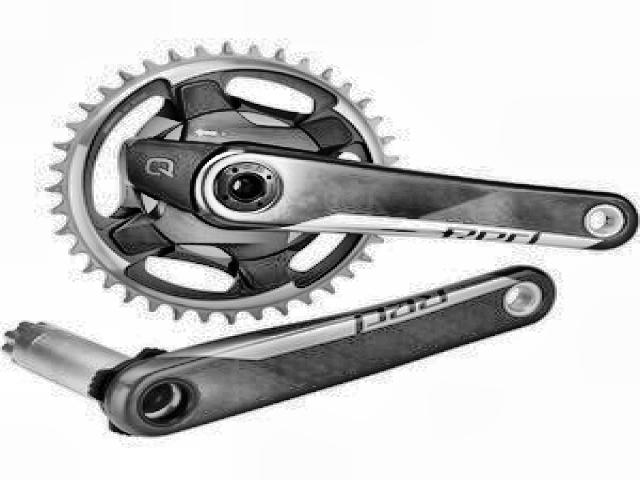cranks_set: (45, 46, 640, 324)
